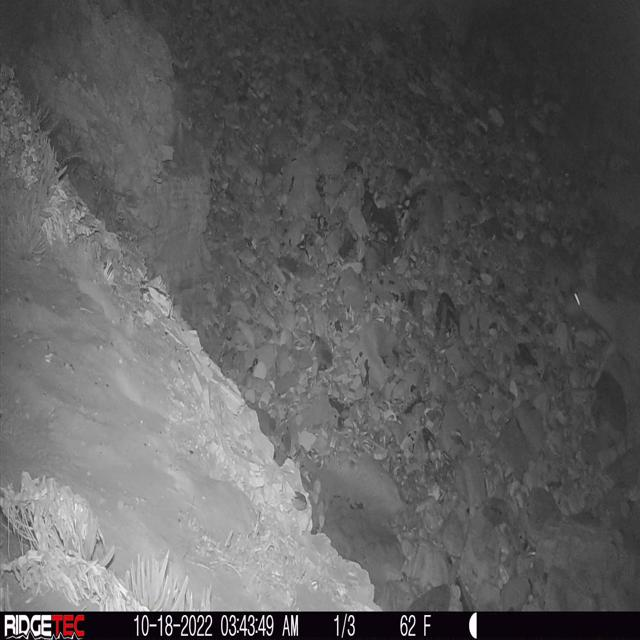deer: (562, 282, 640, 437)
